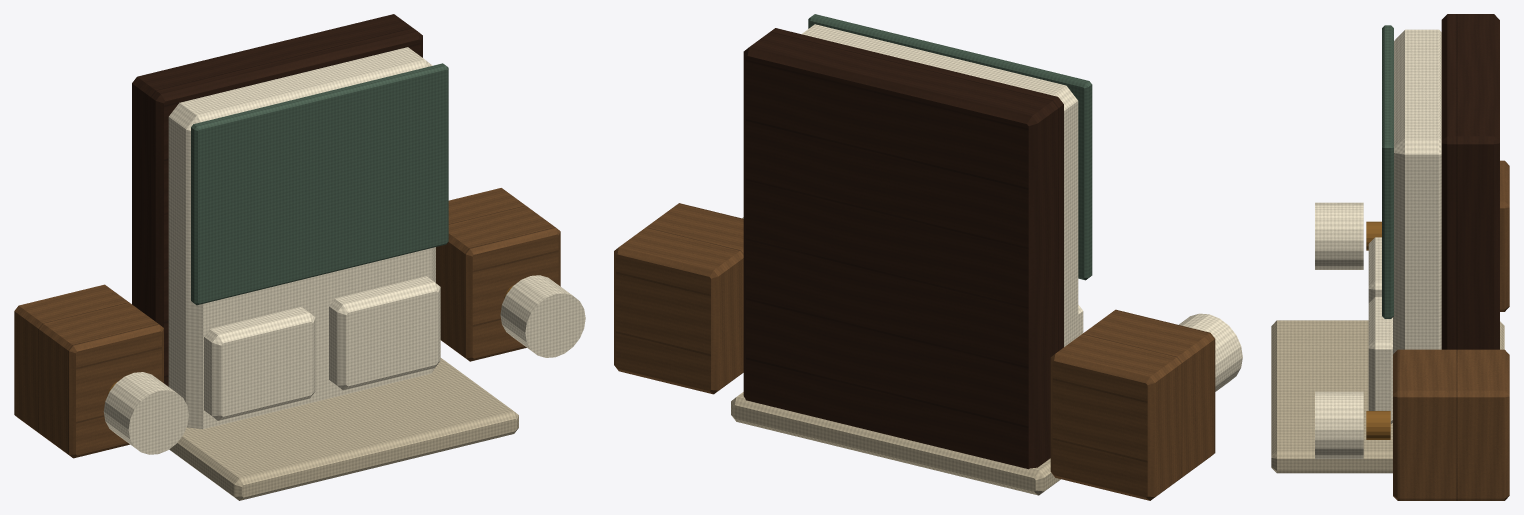
File: bed_bedroom3.obj
The picture shows the model from 3 angles, left to right: view 1: azimuth 30°, elevation 25°; view 2: azimuth 150°, elevation 25°; view 3: azimuth 270°, elevation 25°; orthographic projection. The views are drawn at different scales.
Visible parts, largest first — view 1: bed_bedroom3_linen, bed_bedroom3_sage, bed_bedroom3_oak, bed_bedroom3_fabric, bed_bedroom3_walnut; view 2: bed_bedroom3_walnut, bed_bedroom3_oak, bed_bedroom3_linen, bed_bedroom3_fabric, bed_bedroom3_sage; view 3: bed_bedroom3_linen, bed_bedroom3_walnut, bed_bedroom3_oak, bed_bedroom3_fabric, bed_bedroom3_sage, bed_bedroom3_brass.
Boxes of the visible parts, x1,y1,x2,y2 form: bed_bedroom3_linen: (103,47,585,454); bed_bedroom3_sage: (191,63,448,305); bed_bedroom3_oak: (14,188,560,458); bed_bedroom3_fabric: (169,358,518,500); bed_bedroom3_walnut: (132,14,422,386); bed_bedroom3_walnut: (743,28,1063,469); bed_bedroom3_oak: (614,203,1215,500); bed_bedroom3_linen: (742,24,1242,391); bed_bedroom3_fabric: (731,392,1060,495); bed_bedroom3_sage: (808,14,1092,280); bed_bedroom3_linen: (1315,29,1441,458); bed_bedroom3_walnut: (1441,14,1499,349); bed_bedroom3_oak: (1393,160,1509,500); bed_bedroom3_fabric: (1271,320,1504,473); bed_bedroom3_sage: (1382,25,1393,318); bed_bedroom3_brass: (1366,221,1390,439).
Bounding box in the file's own units: 114 × 76 × 49.
7 materials, 7 textured.
